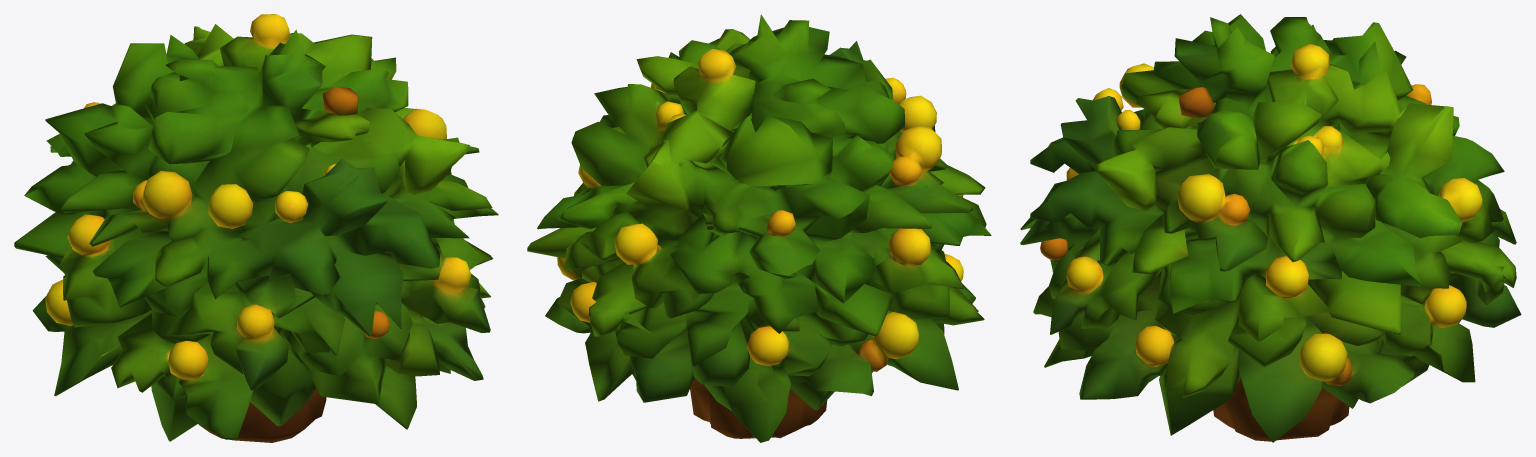
The picture shows the model from 3 angles, left to right: view 1: azimuth 30°, elevation 25°; view 2: azimuth 150°, elevation 25°; view 3: azimuth 270°, elevation 25°; orthographic projection. The views are drawn at different scales.
Visible parts, largest first — view 1: tripo_node_1a17b964-cf7d-4626-b328-af7e86206af0; view 2: tripo_node_1a17b964-cf7d-4626-b328-af7e86206af0; view 3: tripo_node_1a17b964-cf7d-4626-b328-af7e86206af0.
Boxes of the visible parts, <box> form: tripo_node_1a17b964-cf7d-4626-b328-af7e86206af0: <box>14,14,498,442</box>; tripo_node_1a17b964-cf7d-4626-b328-af7e86206af0: <box>527,14,991,442</box>; tripo_node_1a17b964-cf7d-4626-b328-af7e86206af0: <box>1020,14,1521,442</box>.
Bounding box in the file's own units: 0.9452 × 0.8865 × 0.998.
Materials: 1 (1 with a texture image).
